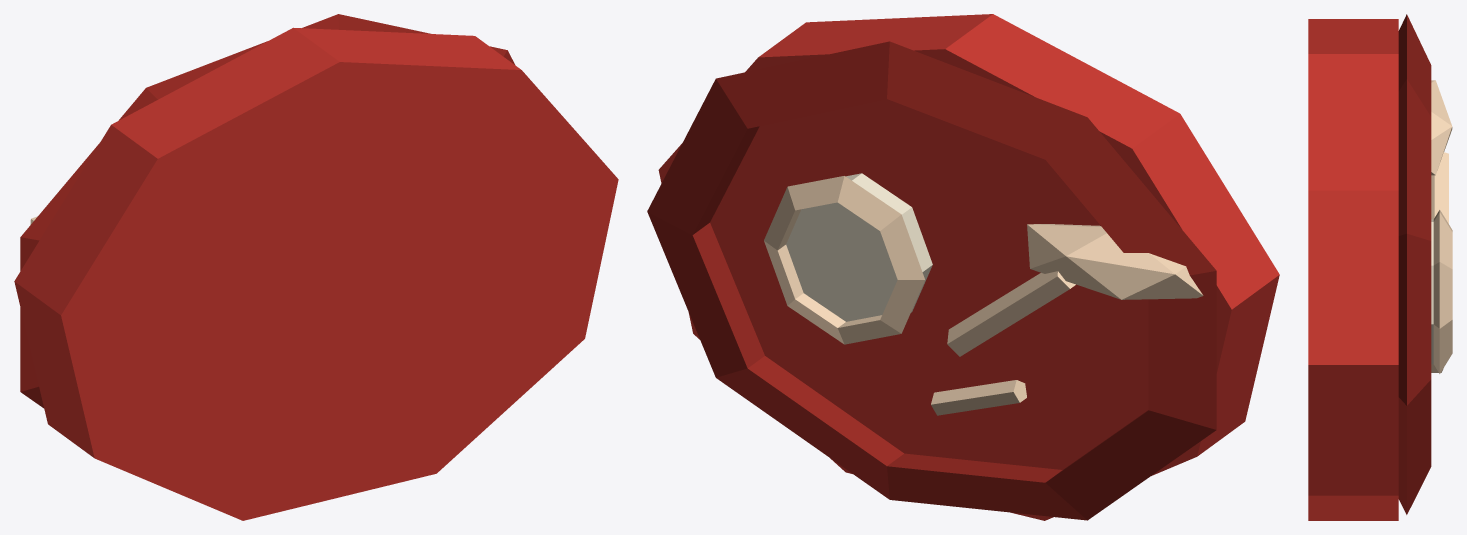
The model's file is meat-slice.glb.
3 renders of one model, left to right at view 1: azimuth 30°, elevation 25°; view 2: azimuth 150°, elevation 25°; view 3: azimuth 270°, elevation 25°, orthographic. The views are drawn at different scales.
Parts seen in each view (by area): view 1: SteakBody, SteakEdge; view 2: SteakBody, SteakEdge, MarrowBone, BoneRim, FatCap, MarblingA, MarblingB; view 3: SteakBody, SteakEdge, BoneRim, FatCap, MarblingA, MarrowBone.
Part boxes in pixels (x1,y1,x2,y2): SteakBody: (14,27,618,520); SteakEdge: (20,14,514,408); SteakBody: (658,14,1279,520); SteakEdge: (647,41,1216,520); MarrowBone: (786,173,932,321); BoneRim: (764,176,924,344); FatCap: (1027,224,1203,299); MarblingA: (947,271,1075,356); MarblingB: (931,380,1026,415); SteakBody: (1308,19,1398,520); SteakEdge: (1398,14,1431,514); BoneRim: (1433,209,1452,373); FatCap: (1431,80,1452,175); MarblingA: (1431,152,1448,223); MarrowBone: (1431,219,1433,364).
Size of the model in its own units: 1.47 by 1.12 by 0.3379.
